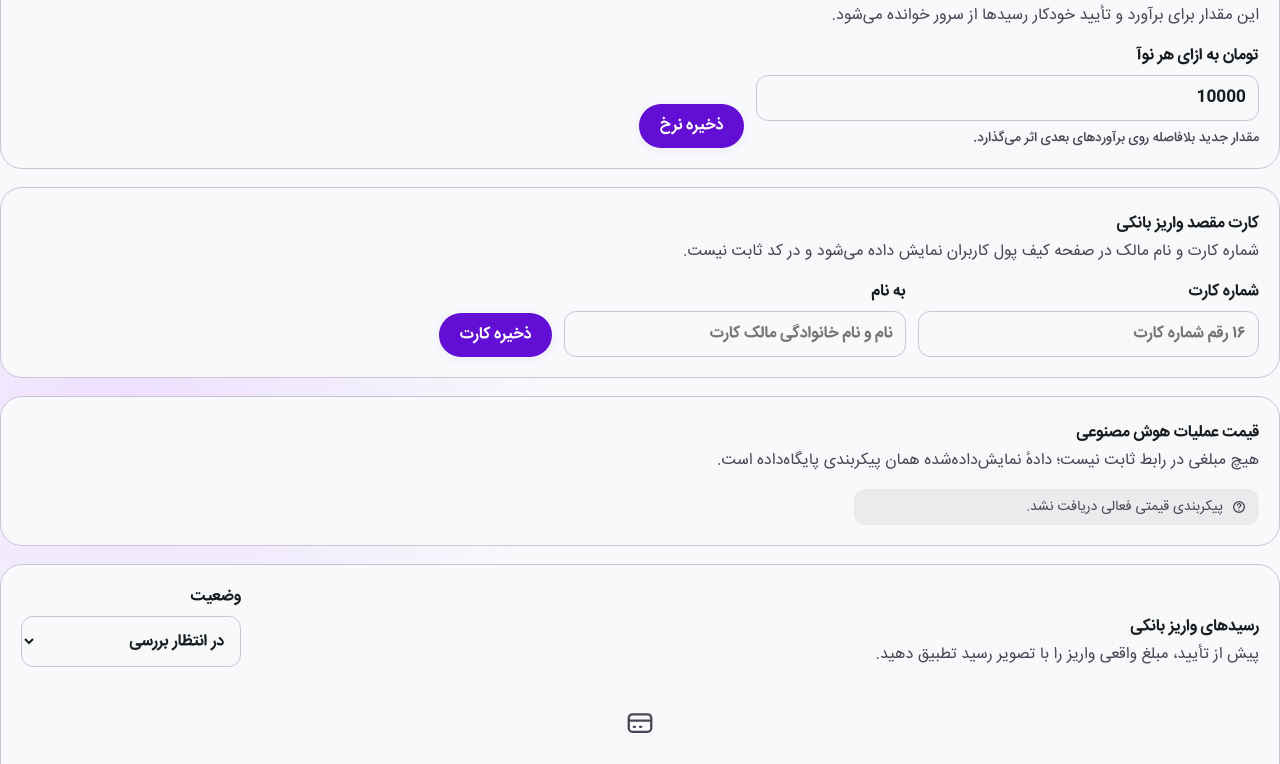
Scenario: NoaFinanceAdmin user wallet management › saves the destination card and owner name through the admin API
(page scrolled)
Expected: the heading "کارت مقصد واریز بانکی" is shown, top-left (1117, 210), bottom-right (1259, 237)
Step 1. Type "۶۰۳۷۹۹۱۲۳۴۵۶۷۸۹۰" into the field labelled "شماره کارت" → (1088, 334), box top-left (918, 311), bottom-right (1259, 357)
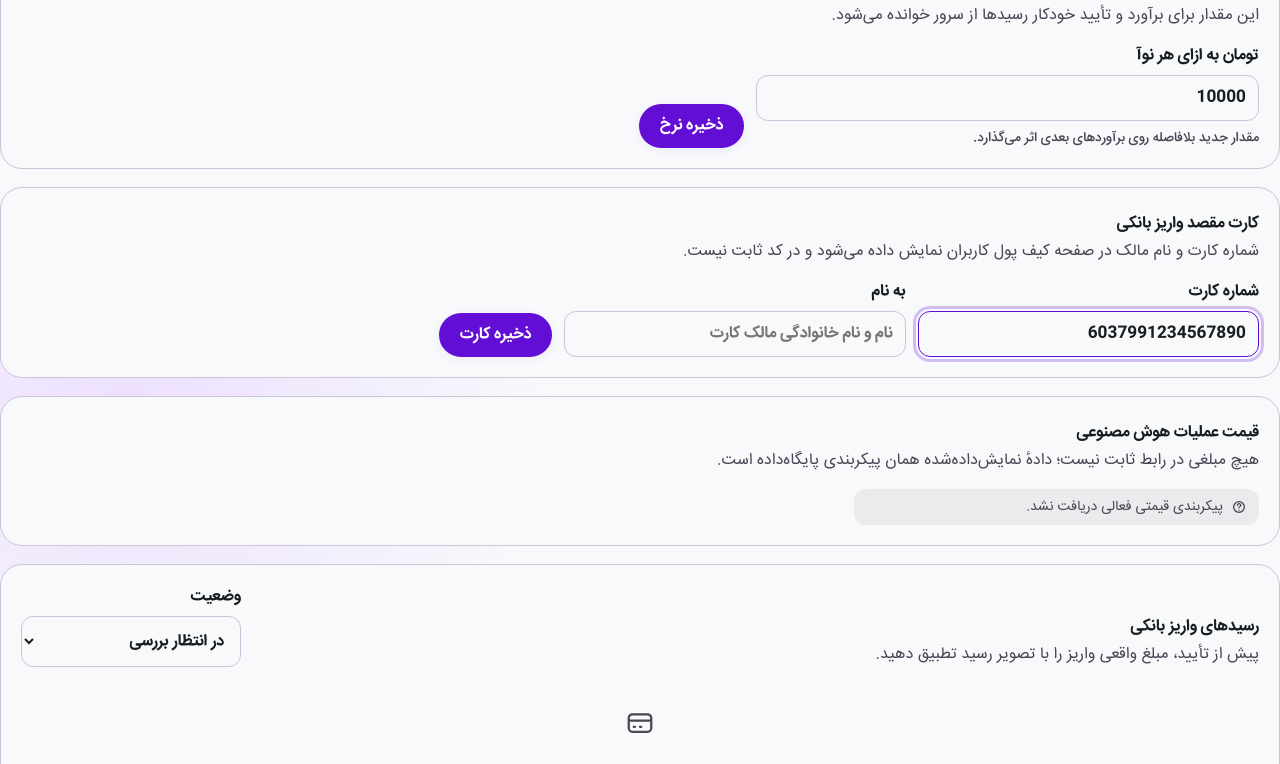
Step 2. Type "نام مالک" into the field labelled "به نام" → (735, 334), box top-left (564, 311), bottom-right (906, 357)
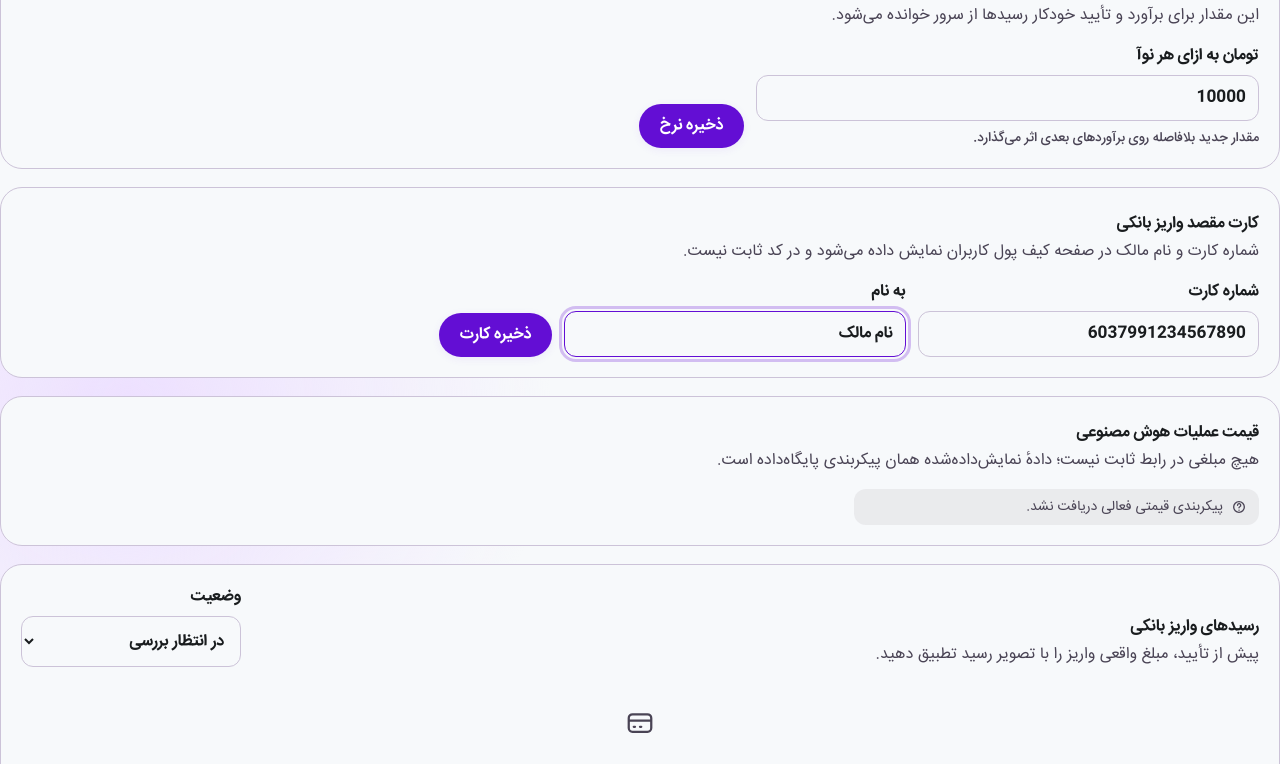
Step 3. Click the button "ذخیره کارت" → (496, 335), box top-left (439, 313), bottom-right (552, 357)
(page scrolled)
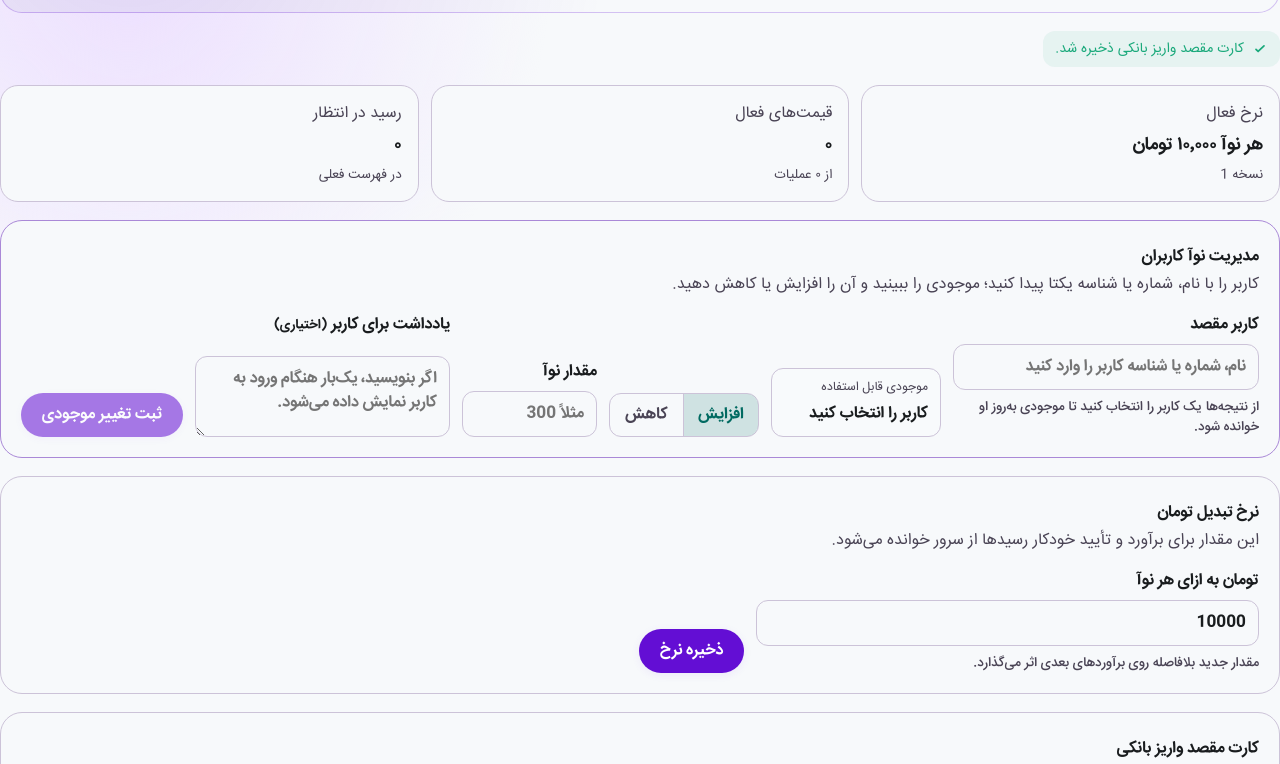
Now the text "کارت مقصد واریز بانکی ذخیره شد." is shown, box top-left (1055, 39), bottom-right (1244, 59)
